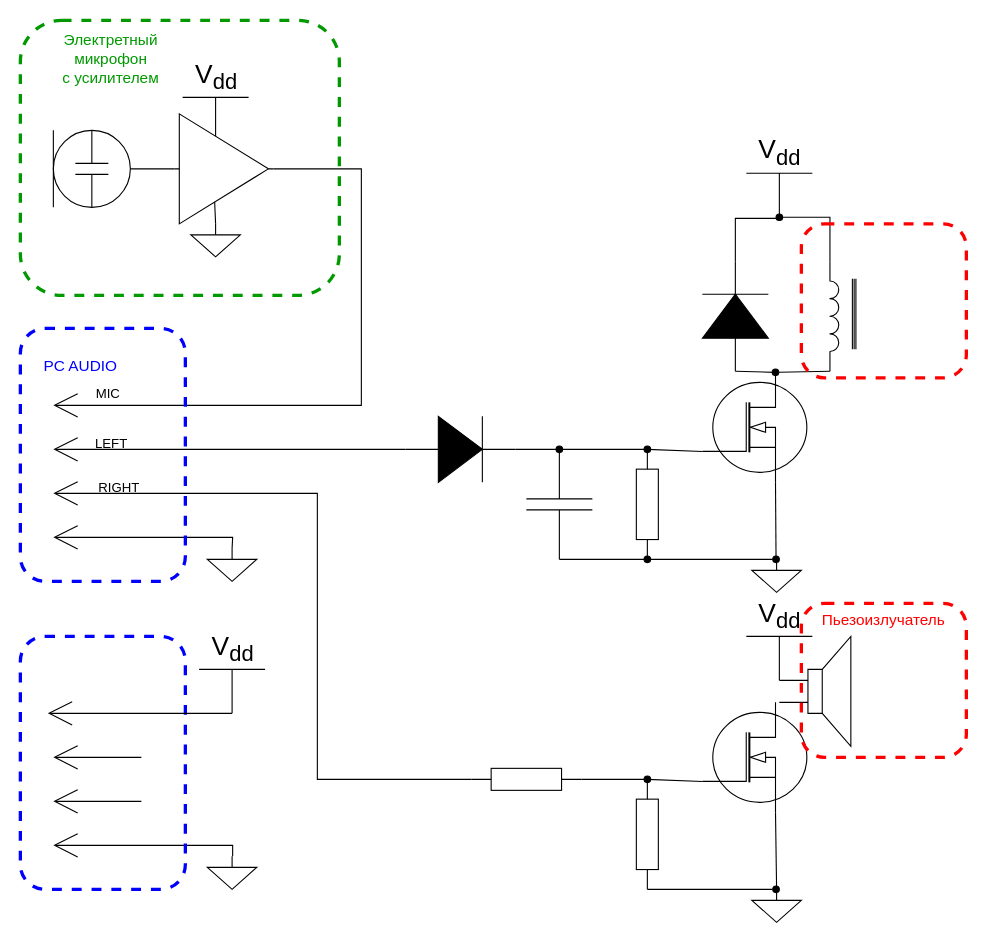
The diagram is 987 pixels wide and 942 high, and some of its shapes have lost their labels. Each missing label, with the box of its shape:
USB: (18, 634, 186, 890)
Соленоид: (799, 222, 967, 379)
